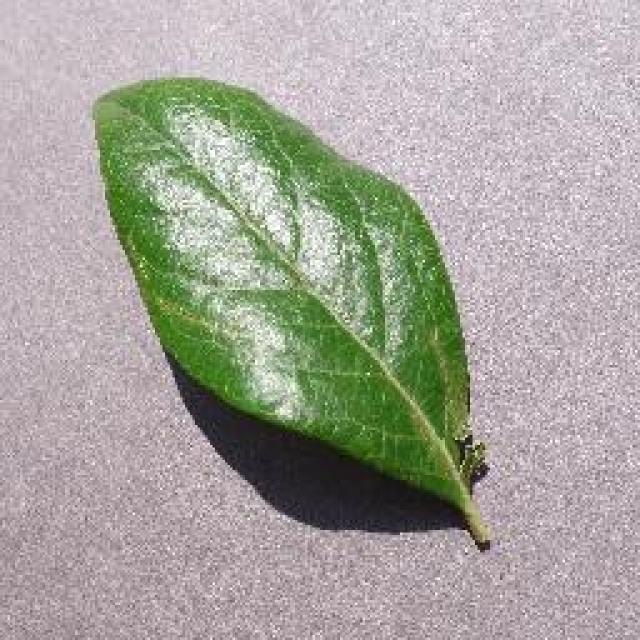Blu_healthy: (121, 100, 435, 431)
